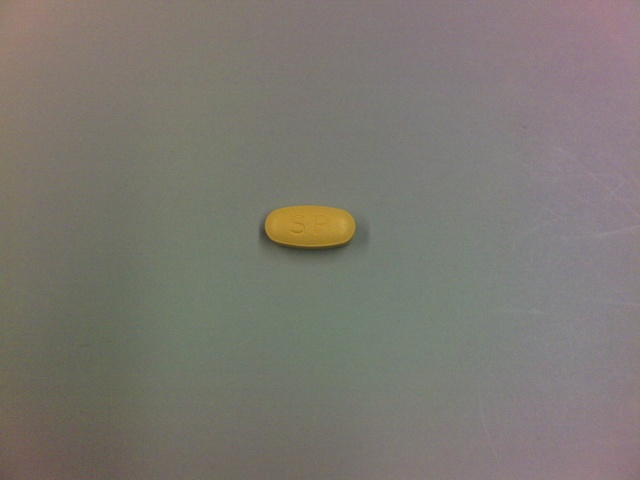P: (310, 212, 330, 238)
S: (288, 212, 304, 237)
